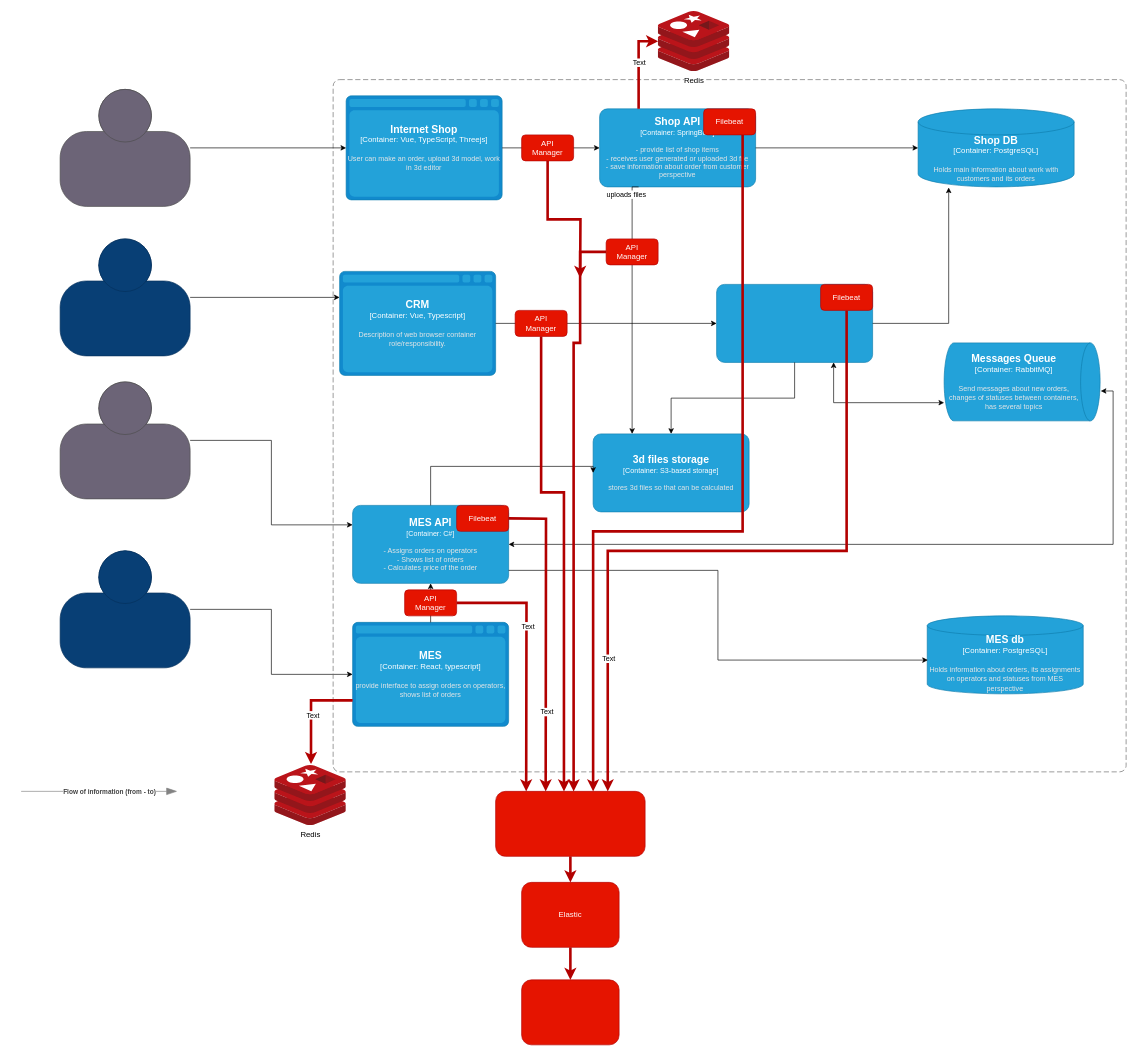
Some shapes in this 1138 by 1056 pixel diagram are drawn without their labels. Each missing label, with the box of its shape:
API user [Person] Description of external person.: (59, 381, 190, 499)
CRM API [Container: SpringBoot] Description of container role/responsibility.: (716, 284, 873, 362)
Customer [Person] Description of external person.: (59, 89, 190, 206)
Jewerly Store System [Software System]: (332, 79, 1126, 772)
Kibana: (521, 979, 619, 1045)
Logstash: (495, 791, 645, 856)
Operator [Person] Takes order in work, manufactures jewerly: (59, 550, 190, 668)
Seller [Person] Operates with order, confirms manufacturing for the user: (59, 238, 190, 356)
